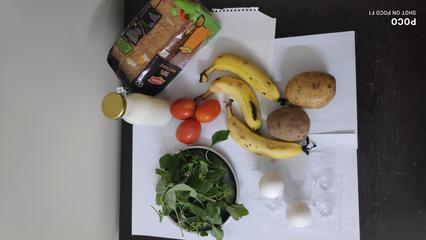bread: (114, 5, 198, 90)
eggs: (219, 105, 309, 160), (205, 56, 298, 90), (202, 79, 267, 117)
milk: (99, 90, 170, 127)
potato: (287, 71, 343, 107)
spinach: (159, 152, 229, 228)
tomato: (174, 101, 215, 140)
